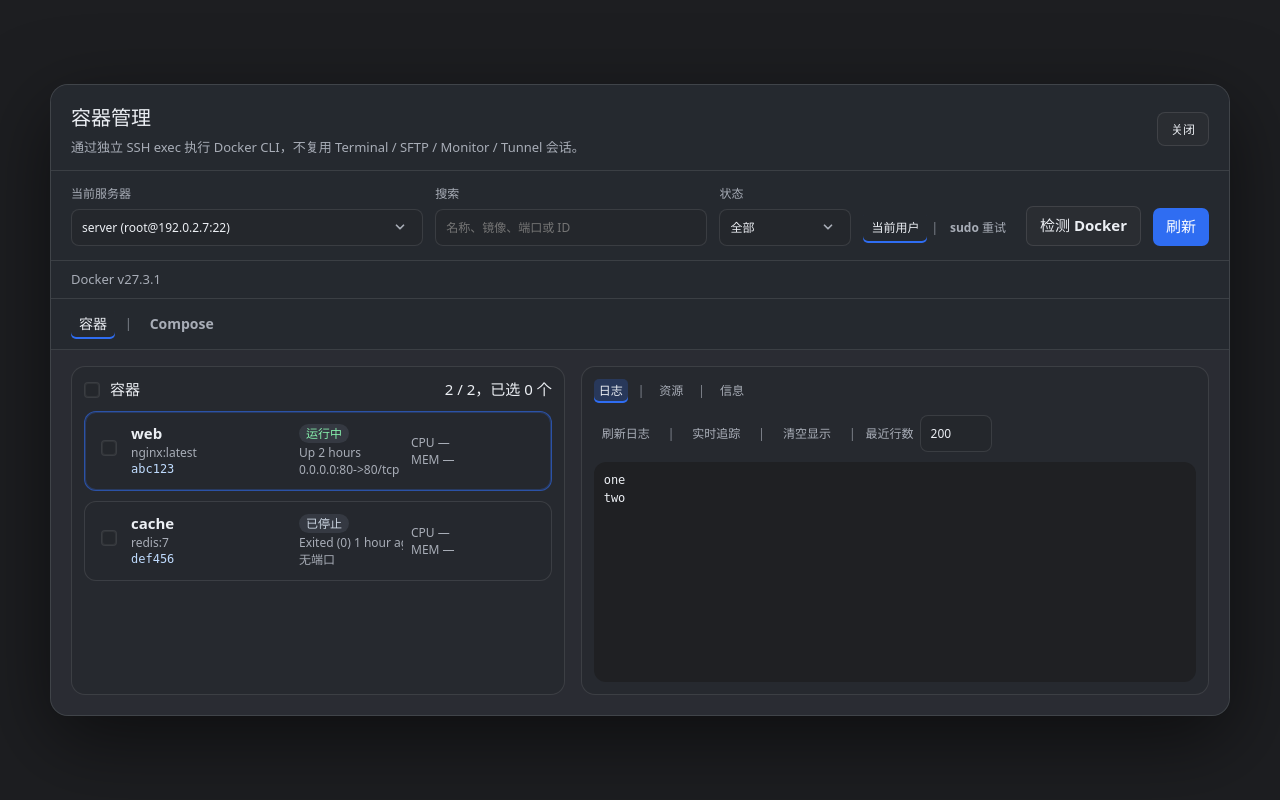
DockerManagerDialog › shows Docker Compose unavailable state without rendering container management in the Compose view
The image size is (1280, 800).
Click the button with test id "docker-compose-tab": (182, 324) [142, 309, 222, 339]
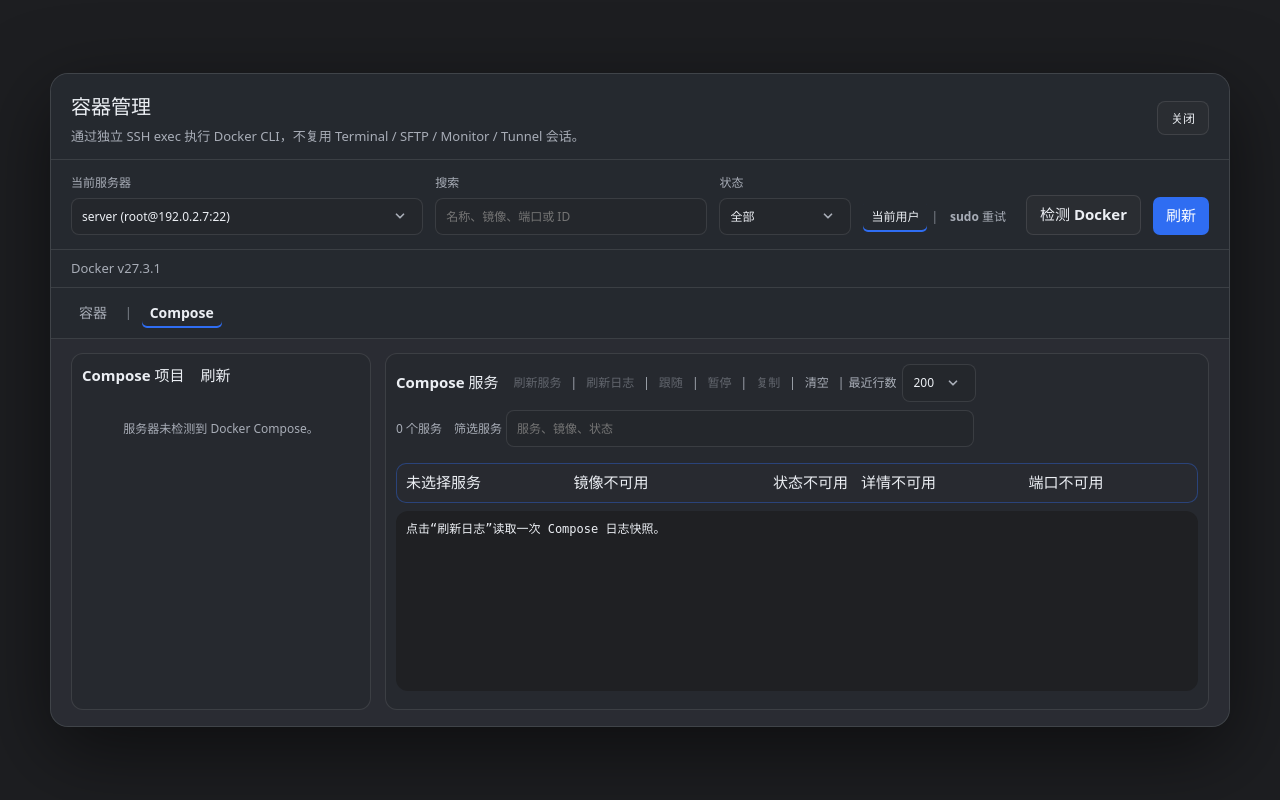
Expected: the text with test id "docker-compose-unavailable" reads "服务器未检测到 Docker Compose。", [123, 420, 319, 437]
Expected: no elements with test id "docker-container-row" are shown
Click the button with test id "docker-containers-tab": (93, 314) [71, 298, 115, 328]
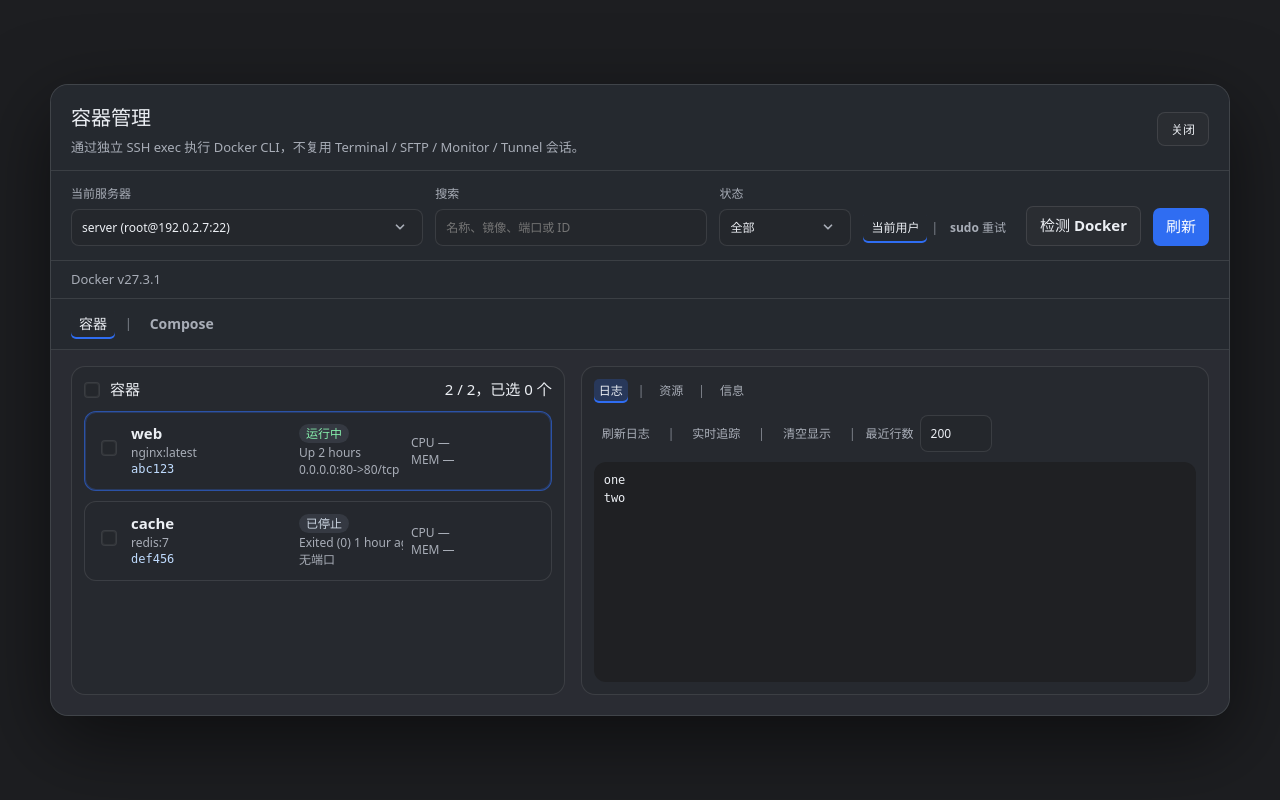
Expected: the number of elements with test id "docker-container-row" is 2, [84, 411, 552, 491]; [84, 501, 552, 581]
Expected: the text "one two" is shown, [594, 462, 1196, 682]
